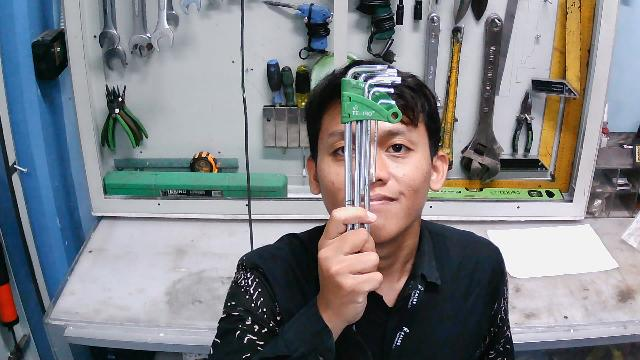kunci_l_bintang: (337, 60, 403, 267)
